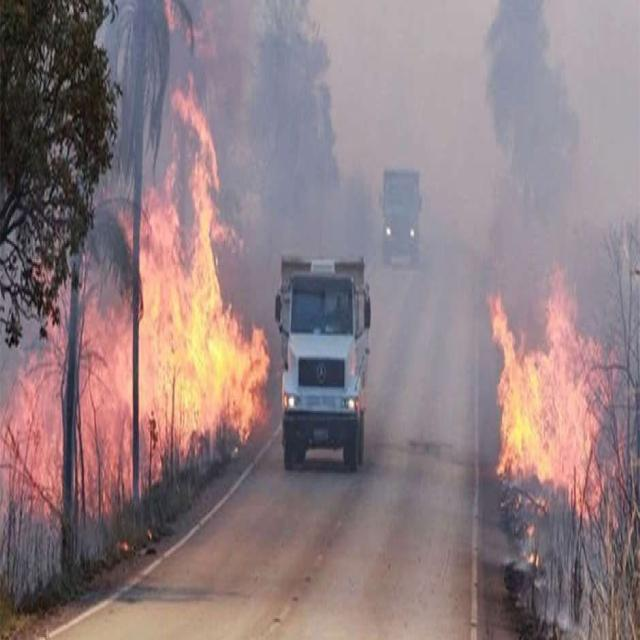Fire: (73, 85, 270, 566), (490, 270, 606, 524), (0, 289, 68, 606)
